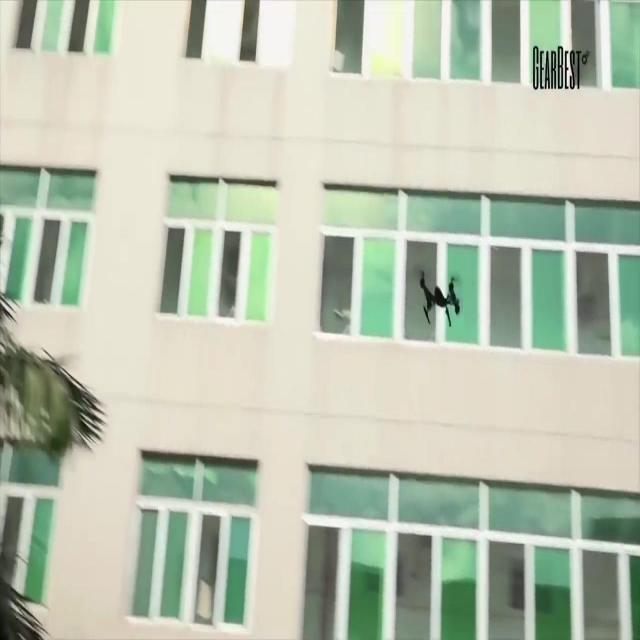UAV: (420, 271, 460, 327)
